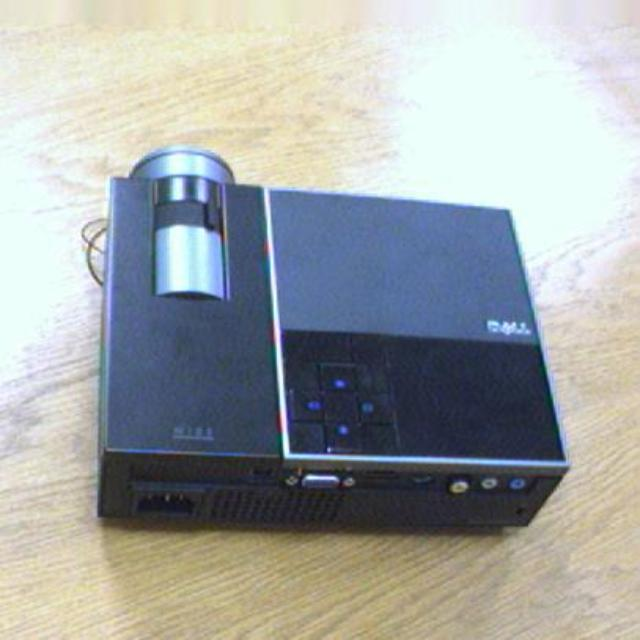Projector: (83, 142, 572, 532)
